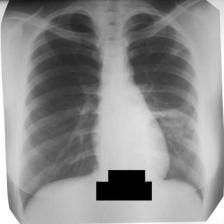tuberculosis: (13, 9, 211, 211)
